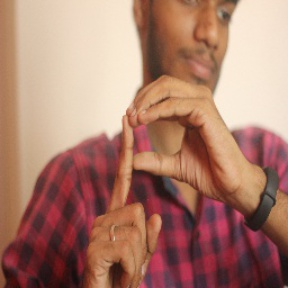P: (80, 73, 238, 276)
